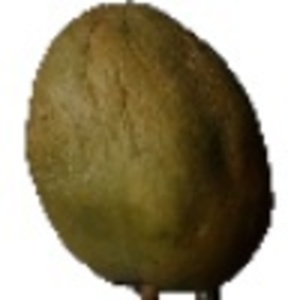mamão: (19, 3, 278, 293)
